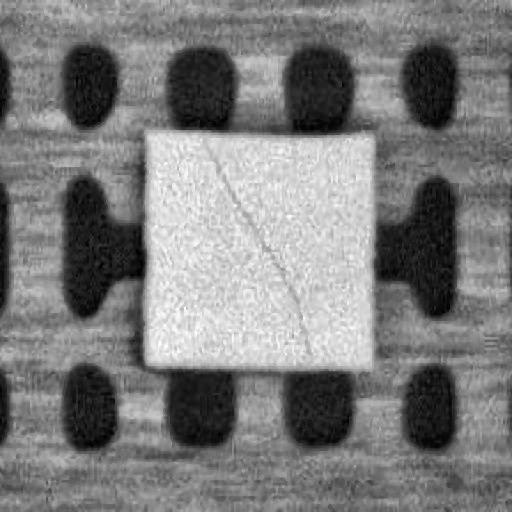DIE_CRACK: (204, 135, 304, 332)
